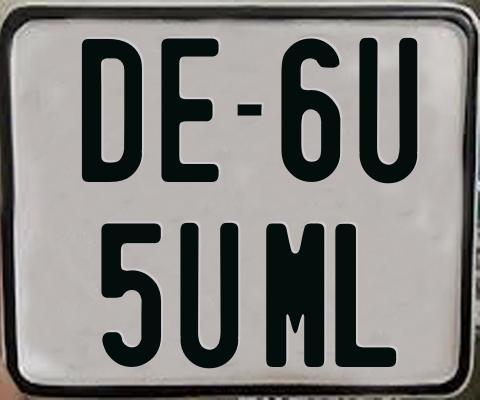5: (100, 221, 165, 367)
6: (281, 36, 342, 186)
D: (82, 37, 145, 182)
E: (159, 36, 219, 185)
L: (335, 222, 400, 370)
M: (263, 221, 321, 371)
U: (180, 221, 244, 372), (358, 37, 419, 187)
